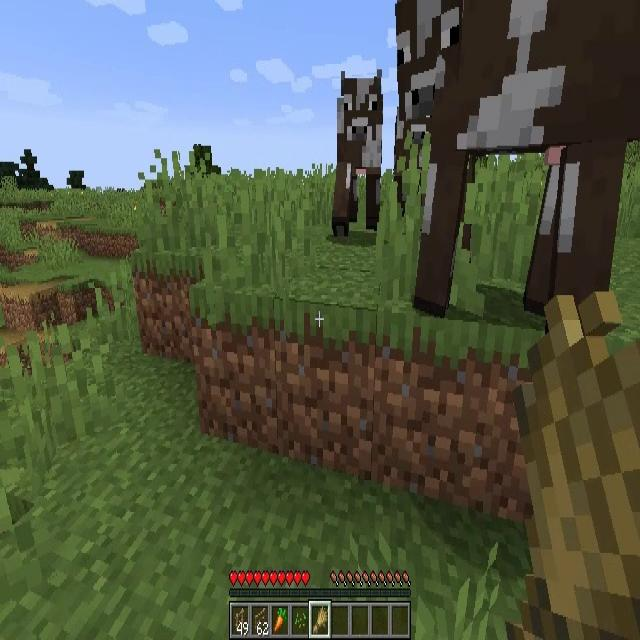cow: (410, 0, 630, 314), (334, 74, 383, 235)
